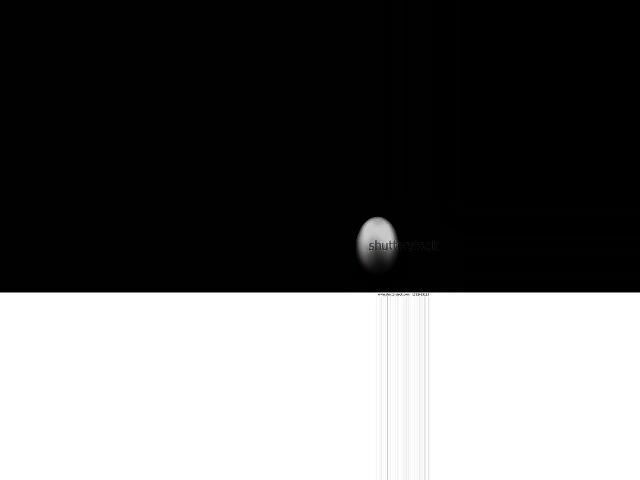egg: (355, 216, 398, 275)
